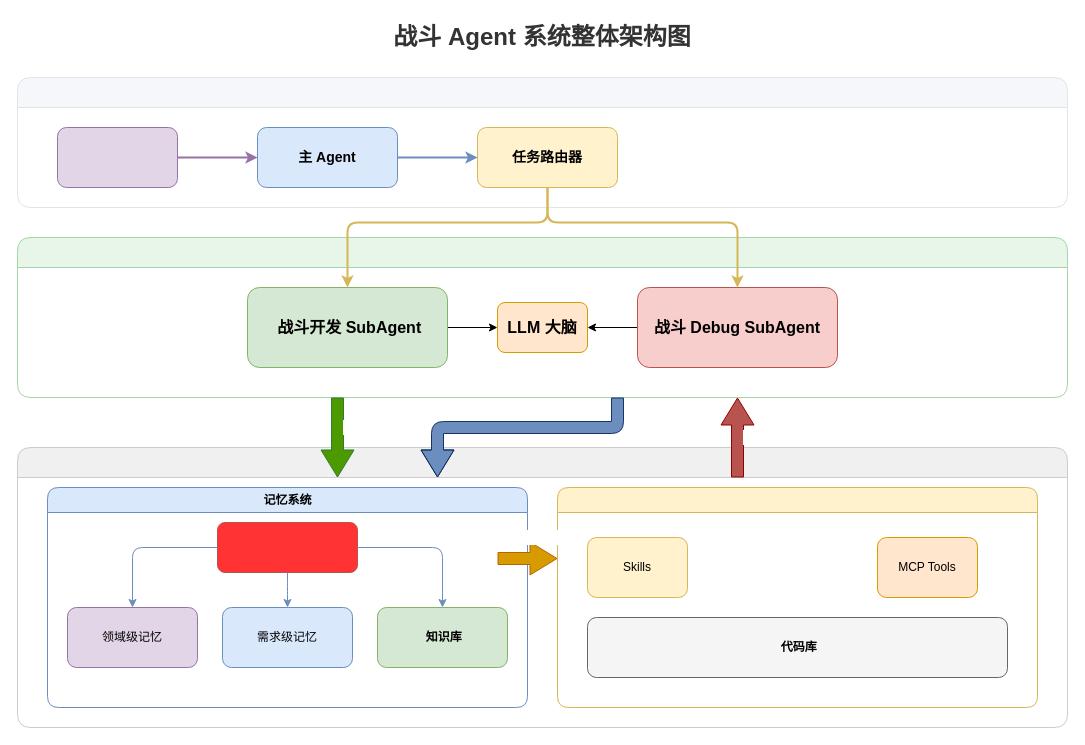
This 1085x745 diagram has some shape labels left out. The shapes that lost their labels are listed below. From the top down, each one's box as (x1, y1, x2, y2) in pixels, then its label:
(56, 126, 178, 188): 用户
(16, 76, 1068, 208): 交互与路由层
(16, 236, 1068, 398): 核心战斗 SubAgent 层 (主要贡献)
(216, 522, 358, 572): _index.md (入口)
(16, 446, 1068, 728): 底层资源支撑 (记忆与工具)
(556, 486, 1038, 708): 工具层
